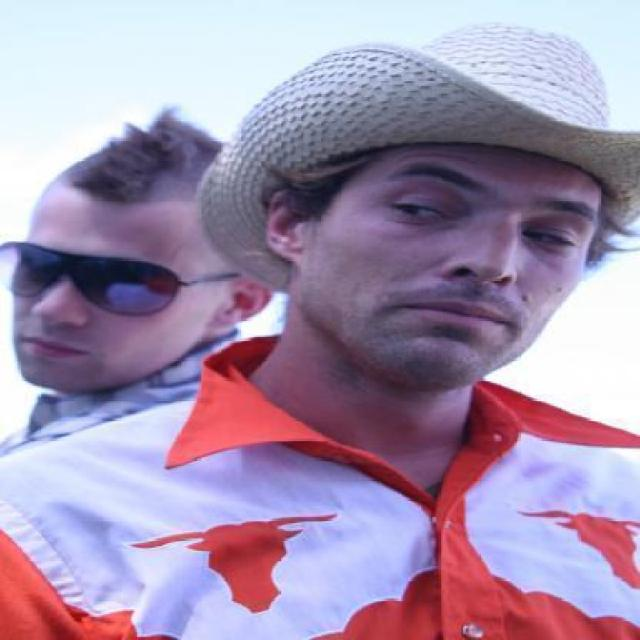No_Ear-Protection: (263, 186, 313, 264)
face_nomask: (377, 176, 600, 367), (16, 238, 156, 378)
glasses: (21, 238, 258, 314)
head_nohelmet: (326, 38, 640, 184), (39, 133, 232, 225)
person: (51, 54, 640, 640)
